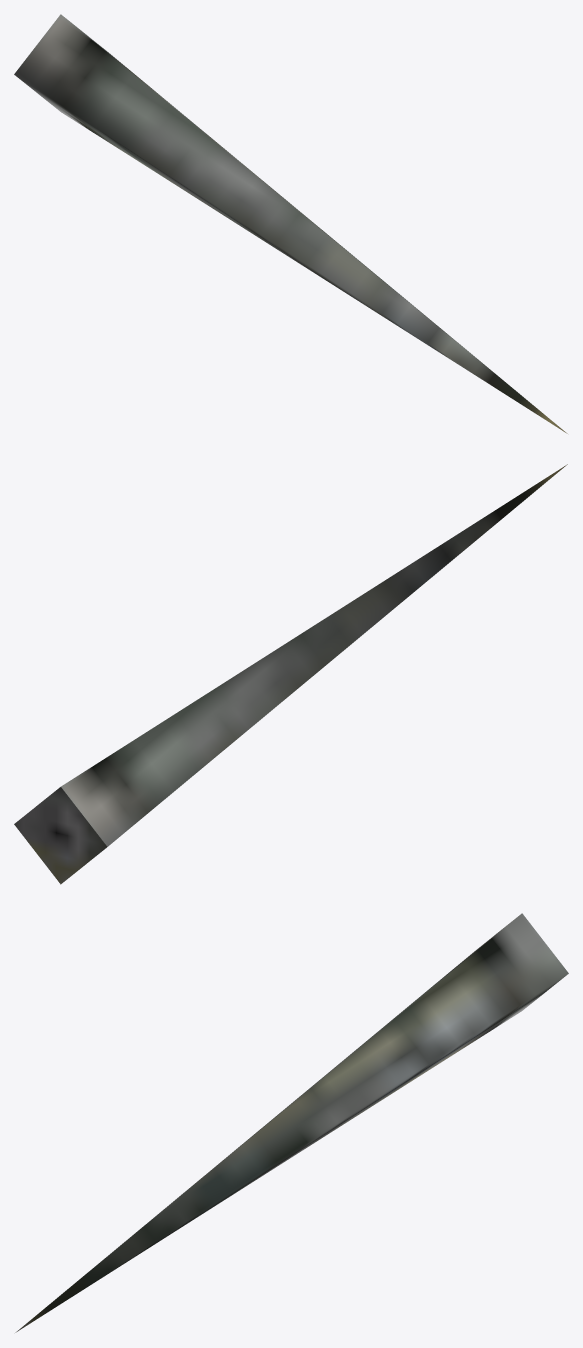
Rendered from xwing_weapon_neg_s01_l3.fbx.
3 renders of one model, top to bottom at view 1: azimuth 30°, elevation 25°; view 2: azimuth 150°, elevation 25°; view 3: azimuth 330°, elevation 25°, orthographic.
Parts seen in each view (by area): view 1: mesh_node; view 2: mesh_node; view 3: mesh_node.
Boxes of the visible parts, x1,y1,x2,y2 form: mesh_node: (14,14,567,433); mesh_node: (14,464,567,884); mesh_node: (15,913,568,1332).
Size of the model in its own units: 0.5129 by 0.5129 by 4.83.
1 material, 1 textured.
